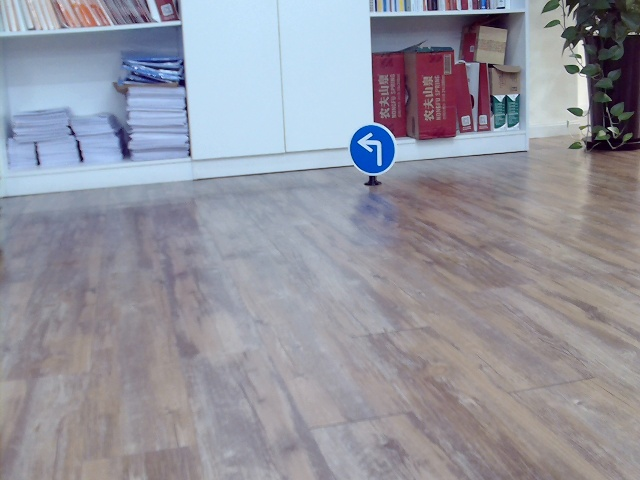turn_left: (358, 130, 388, 169)
